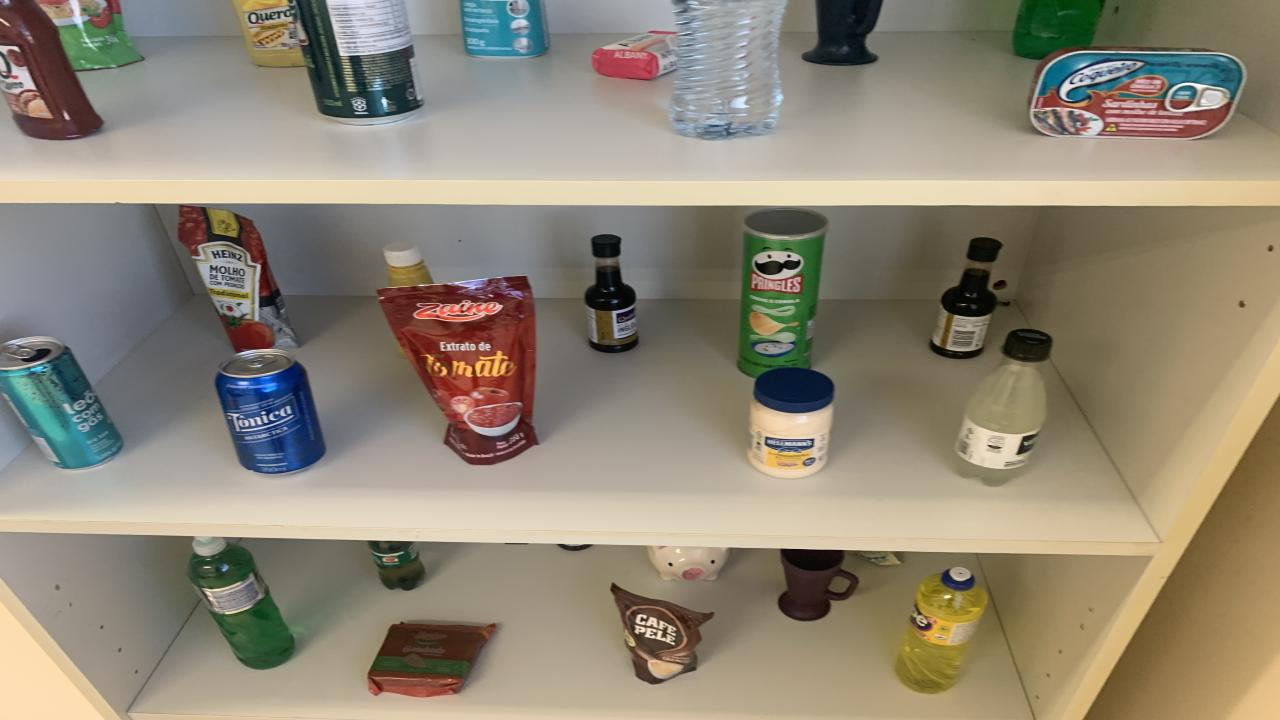Cleaner-Cleanup_Items: (460, 0, 550, 58)
Coffee-Pantry_Items: (610, 583, 712, 684)
Detergent-Cleanup_Items: (188, 536, 295, 669), (895, 566, 988, 694), (1012, 0, 1105, 58)
English_Sauce-Pantry_Items: (930, 236, 1002, 358), (585, 234, 638, 352), (558, 544, 592, 551)
Guarana-Drinks: (368, 540, 425, 591)
Guarana_Can-Drinks: (292, 0, 422, 126)
Guava-Snacks: (368, 622, 495, 698)
Mayonnaise-Pantry_Items: (748, 368, 835, 478)
Mustard-Pantry_Items: (232, 0, 305, 68), (382, 242, 432, 287)
Pig_Safe-Miscellaneous: (648, 546, 730, 581)
Pringles-Snacks: (738, 208, 828, 377)
Soap-Cleanup_Items: (592, 32, 678, 79)
Soda-Drinks: (955, 328, 1052, 486)
Tea-Drinks: (0, 338, 122, 469)
Tomato_Sauce-Pantry_Items: (378, 276, 538, 465), (178, 204, 298, 352), (35, 0, 142, 71)
Tonic-Drinks: (215, 349, 325, 474)
Tuna_Can-Pantry_Items: (1028, 47, 1245, 139)
Water_Bottle-Drinks: (670, 0, 788, 139)
